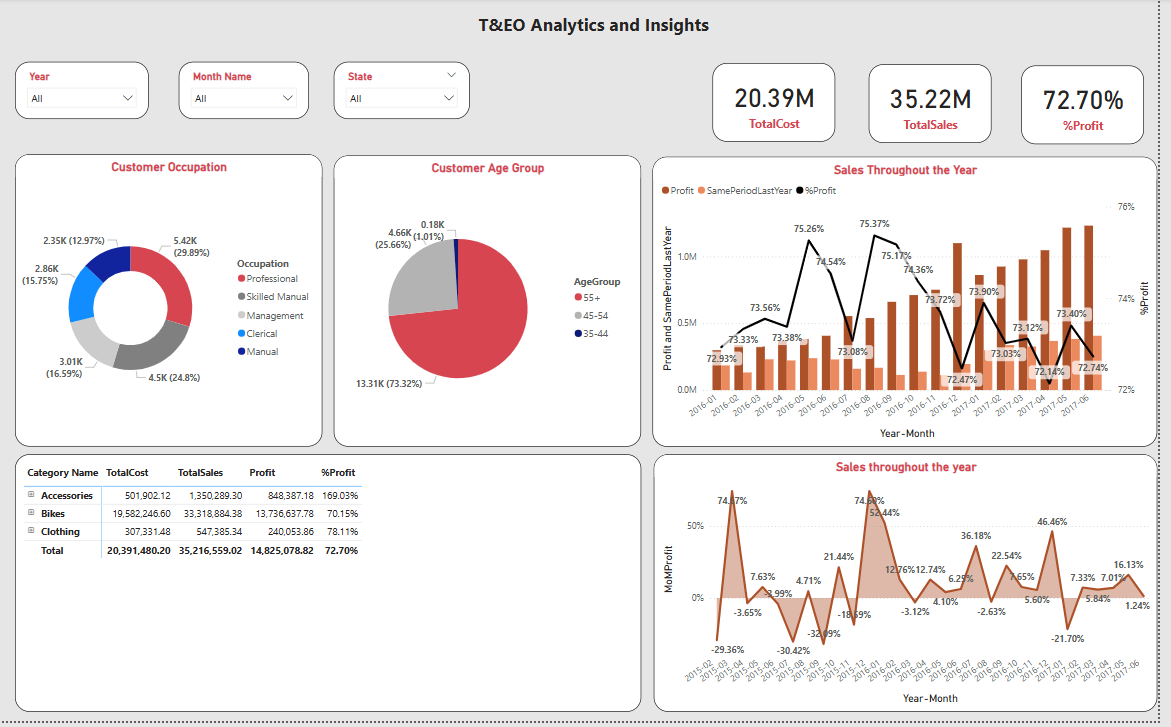

The dashboard page shown, as its layout file describes it:
{"tool":"powerbi","page":{"name":"DASHBOARD","canvas":[1600,1000],"ordinal":0},"visuals":[{"type":"textbox","box":[649.6,15.5,437.1,72.6],"z":0},{"type":"slicer","fields":{"Values":["DateTable.Year"]},"box":[20.7,88.1,184.9,79.5],"z":1000},{"type":"slicer","fields":{"Values":["Total Sales.State"]},"box":[461.3,88.1,188.3,79.5],"z":2000},{"type":"slicer","fields":{"Values":["DateTable.Month Name"]},"box":[247.1,88.1,179.7,79.5],"z":3000},{"type":"card","fields":{"Values":["All Measures.TotalCost"]},"box":[984.8,89.8,169.3,108.8],"z":4000},{"type":"card","fields":{"Values":["All Measures.%Profit"]},"box":[1411.5,93.3,169.3,108.8],"z":5000},{"type":"card","fields":{"Values":["All Measures.TotalSales"]},"box":[1200.8,91.6,169.3,108.8],"z":6000},{"type":"donutChart","title":"Customer Occupation","fields":{"Category":["Customers.Occupation"],"Y":["CountNonNull(Customers.CustomerKey)"]},"box":[20.7,216,425,404.3],"z":7000},{"type":"pieChart","title":"Customer Age Group","fields":{"Category":["Customers.AgeGroup"],"Y":["CountNonNull(Customers.CustomerKey)"]},"box":[461.3,217.7,425,402.6],"z":8000},{"type":"lineClusteredColumnComboChart","title":"Sales Throughout the Year","fields":{"Category":["DateTable.Year-Month"],"Y2":["All Measures.%Profit"],"Y":["All Measures.Profit","All Measures.SamePeriodLastYear"]},"box":[901.9,219.4,698,400.8],"z":9000},{"type":"pivotTable","fields":{"Rows":["Products.Category Name","Products.Sub Category Name","Products.ProductName","Products.ModelName"],"Values":["All Measures.TotalCost","All Measures.TotalSales","All Measures.Profit","All Measures.%Profit"]},"box":[20.7,630.6,865.6,355.9],"z":10000},{"type":"areaChart","title":"Sales throughout the year","fields":{"Y":["All Measures.MoMProfit"],"Category":["DateTable.Year-Month"]},"box":[903.6,630.6,696.3,355.9],"z":11000}]}

Visuals, with their boxes in screenshot pixels (x1, y1, x2, y2), scaled from the page's 1600x1000 canvas onto the 1171x727 screenshot:
textbox: <box>475,11,795,64</box>
slicer - DateTable.Year: <box>15,64,150,122</box>
slicer - Total Sales.State: <box>338,64,475,122</box>
slicer - DateTable.Month Name: <box>181,64,312,122</box>
card - All Measures.TotalCost: <box>721,65,845,144</box>
card - All Measures.%Profit: <box>1033,68,1157,147</box>
card - All Measures.TotalSales: <box>879,67,1003,146</box>
"Customer Occupation" donutChart: <box>15,157,326,451</box>
"Customer Age Group" pieChart: <box>338,158,649,451</box>
"Sales Throughout the Year" lineClusteredColumnComboChart: <box>660,160,1170,451</box>
pivotTable - Products.Category Name x Products.Sub Category Name: <box>15,458,649,717</box>
"Sales throughout the year" areaChart: <box>661,458,1170,717</box>
